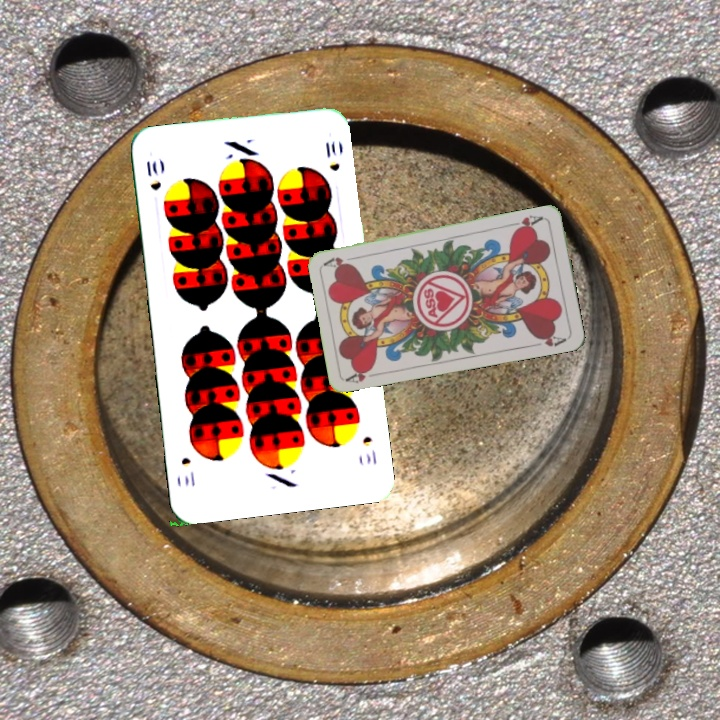HA: (343, 363, 384, 386), (507, 211, 546, 234)
S10: (142, 156, 164, 193), (358, 432, 379, 467)
